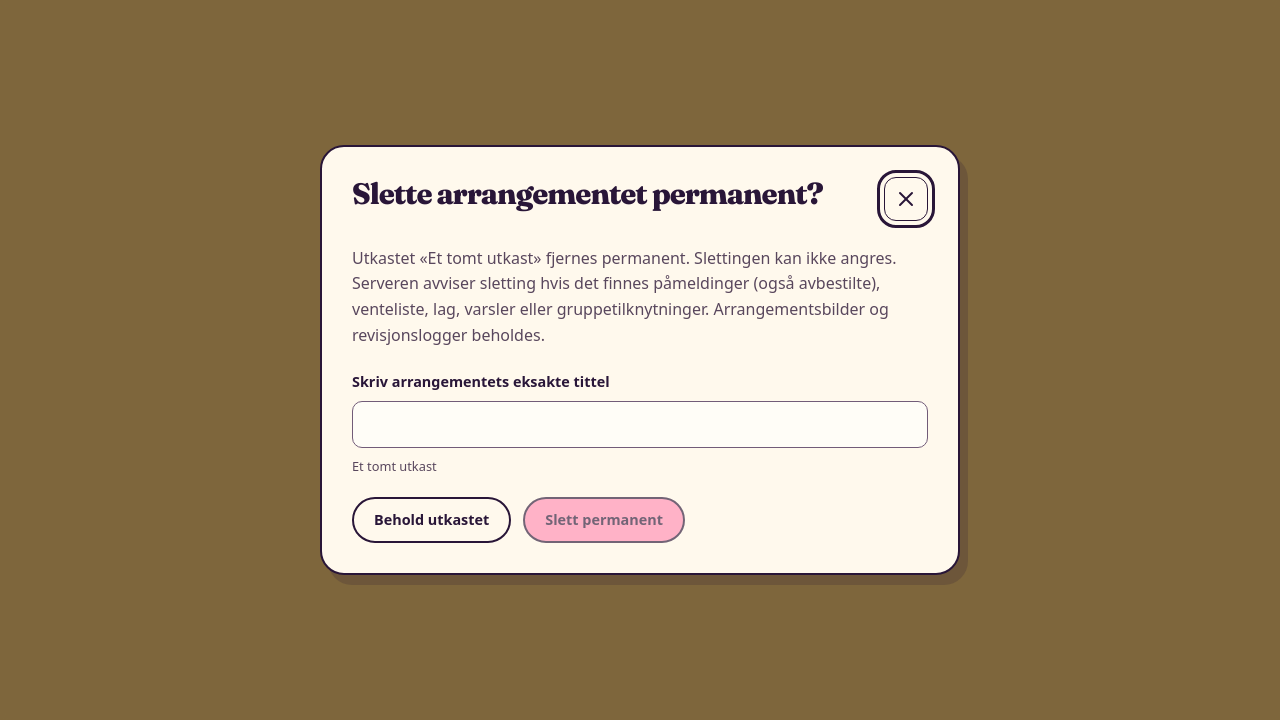
keeps the title and dialog visible when the server rejects linked data; does not retry
Type "Et tomt utkast" into the field labelled "Skriv arrangementets eksakte tittel" at (640, 425), box left=352, top=401, right=928, bottom=448
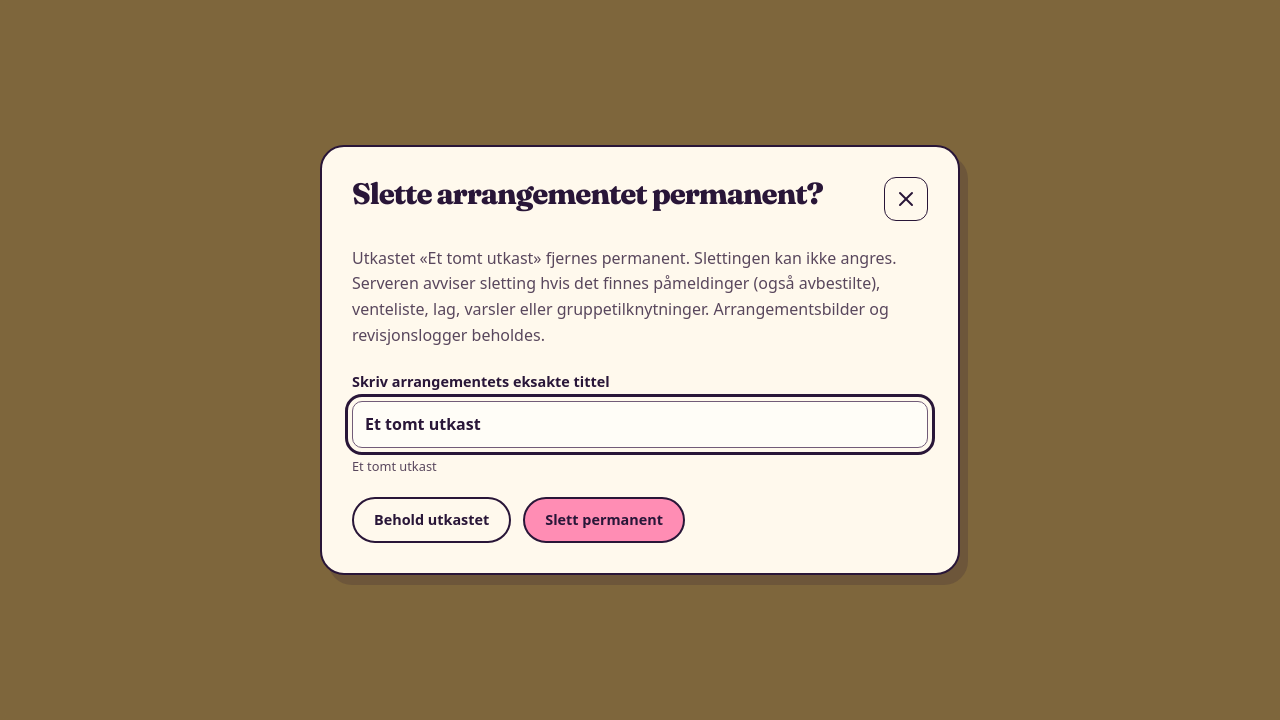
Click the button "Slett permanent" at (604, 520), box left=523, top=497, right=685, bottom=543
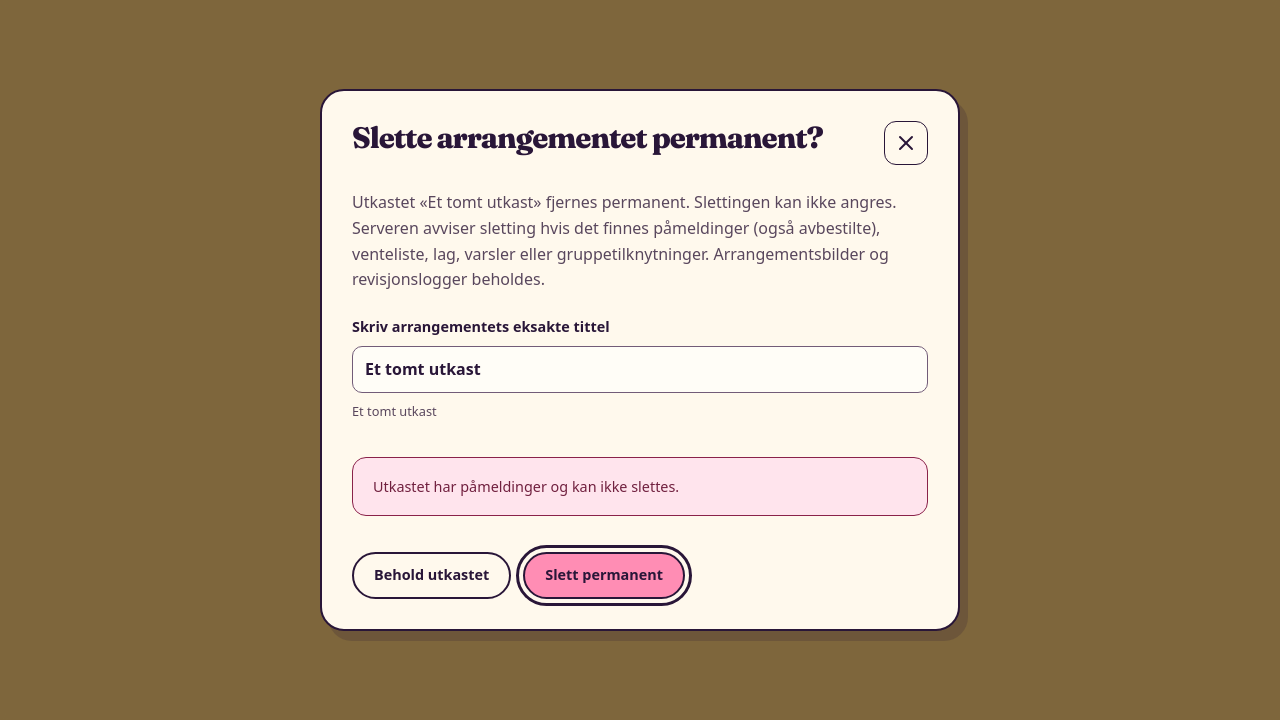
Check: the message shows "Utkastet har påmeldinger", box left=373, top=477, right=679, bottom=496
